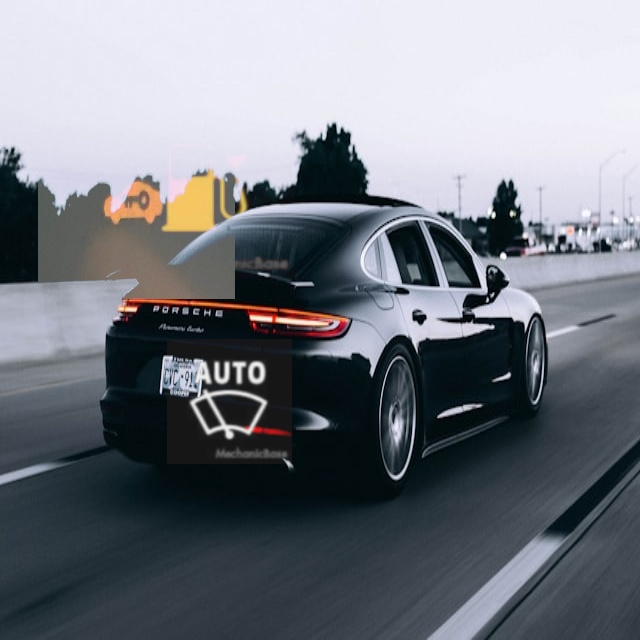symbol: (38, 102, 235, 299), (116, 99, 295, 278), (167, 339, 292, 464)
